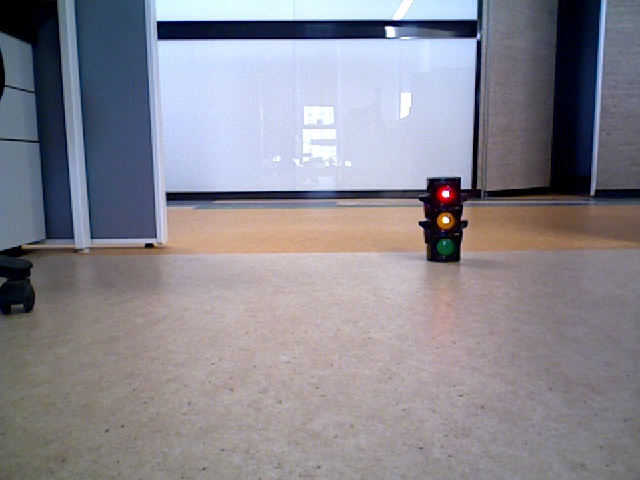red: (427, 178, 460, 260)
